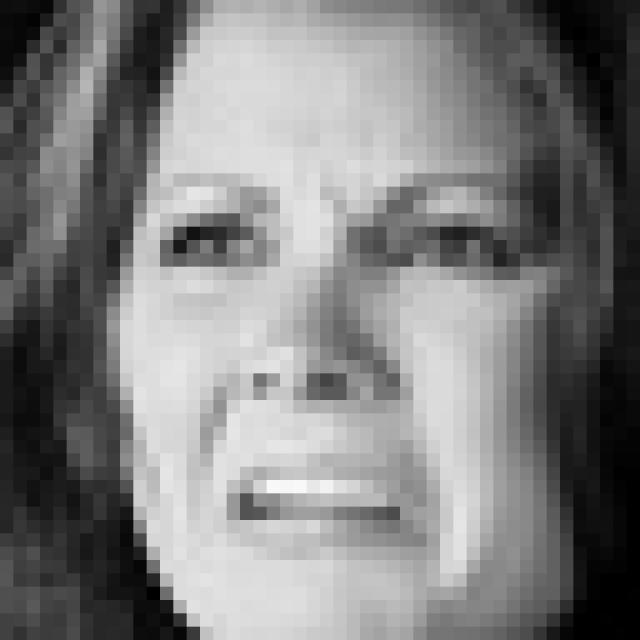disgust: (140, 161, 539, 564)
